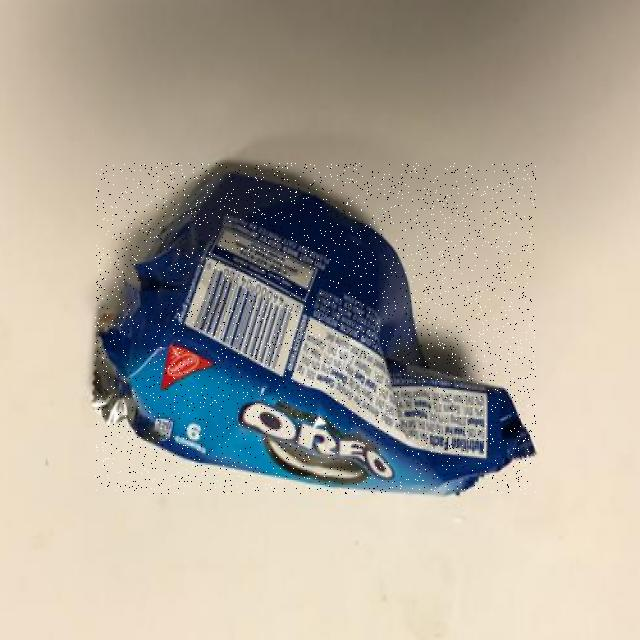wrapper: (95, 164, 536, 494)
